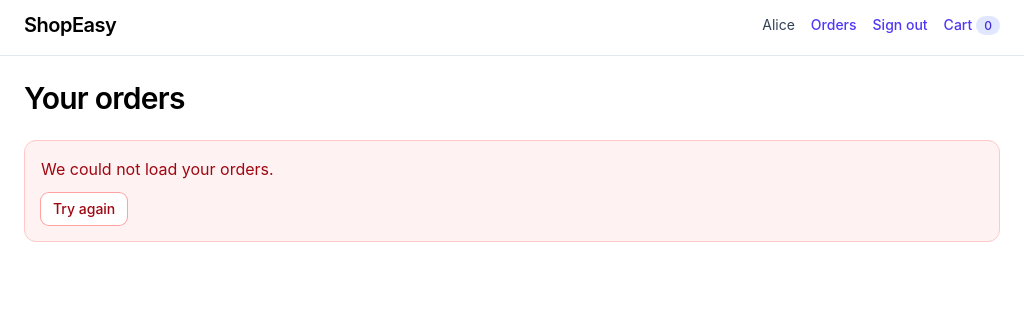
OrdersPage › says so when the orders cannot be loaded, and tries again
The width and height of the screenshot is (1024, 324).
expect the message shows "We could not load your orders.": met, box 41,159 -> 274,179
Click the button "Try again" at (84, 209), box 41,193 -> 127,225
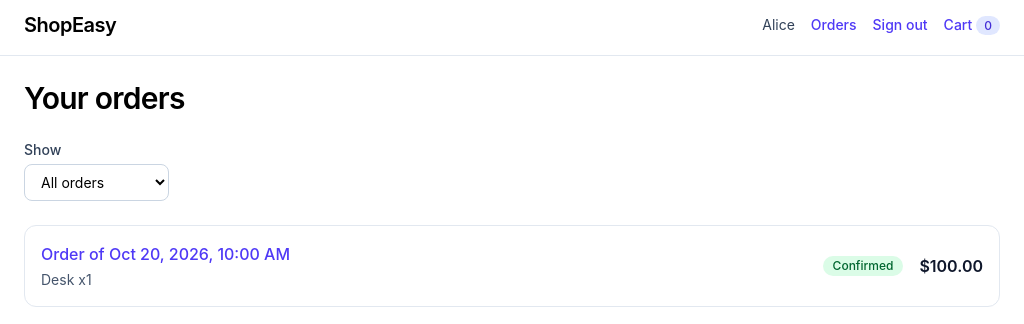
expect the text "Desk x1" is shown: met, box 41,271 -> 92,288
